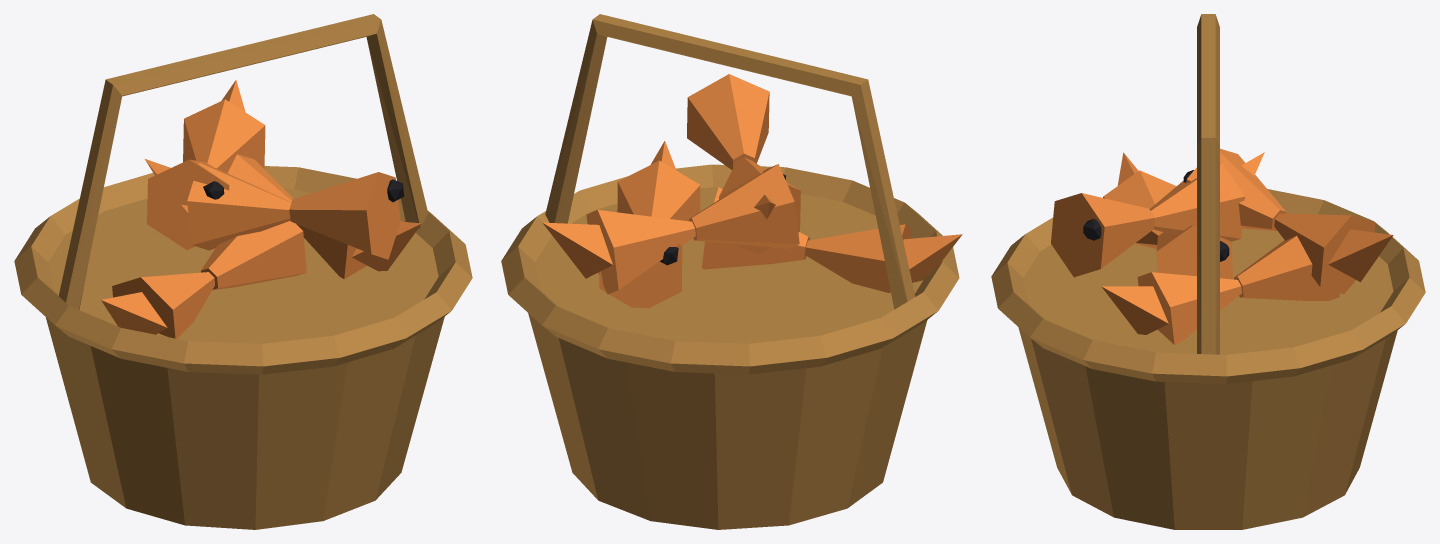
File: HelperBasket.obj
3 renders of one model, left to right at view 1: azimuth 30°, elevation 25°; view 2: azimuth 150°, elevation 25°; view 3: azimuth 270°, elevation 25°, orthographic. The views are drawn at different scales.
Parts seen in each view (by area): view 1: HelperBasket; view 2: HelperBasket; view 3: HelperBasket.
Boxes of the visible parts, x1,y1,x2,y2 form: HelperBasket: [14, 14, 472, 529]; HelperBasket: [501, 14, 962, 529]; HelperBasket: [991, 14, 1425, 529].
Bounding box in the file's own units: 0.4304 × 0.4281 × 0.4304.
